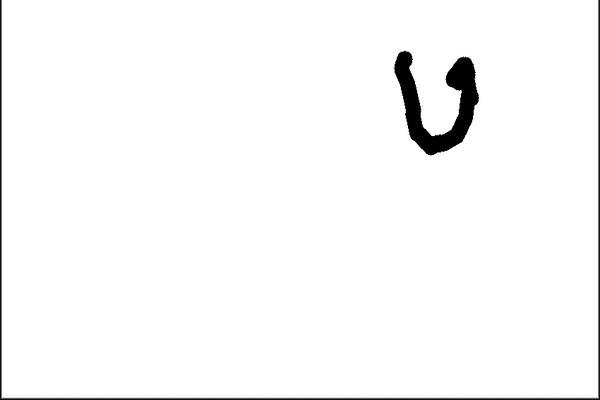U: (384, 46, 484, 160)
